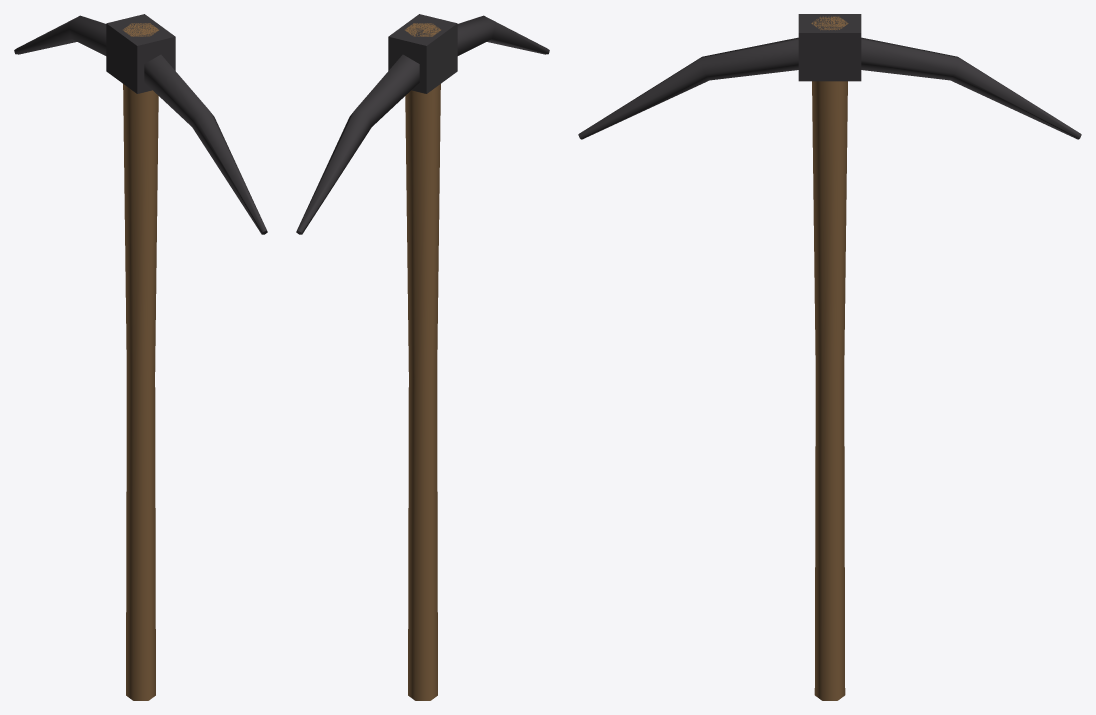
Rendered from pickaxe.glb.
3 renders of one model, left to right at view 1: azimuth 30°, elevation 25°; view 2: azimuth 150°, elevation 25°; view 3: azimuth 270°, elevation 25°, orthographic.
Visible parts, largest first — view 1: pickaxe; view 2: pickaxe; view 3: pickaxe.
Part boxes in pixels (x1=…): pickaxe: x1=14, y1=14, x2=267, y2=700; pickaxe: x1=296, y1=14, x2=549, y2=700; pickaxe: x1=578, y1=14, x2=1081, y2=700.
Bounding box in the file's own units: 0.05 × 0.83 × 0.5639.
